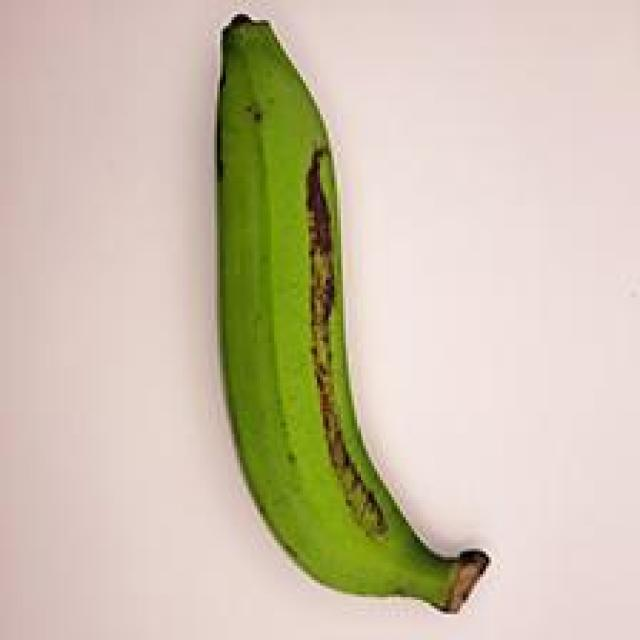Raw: (152, 6, 503, 626)
